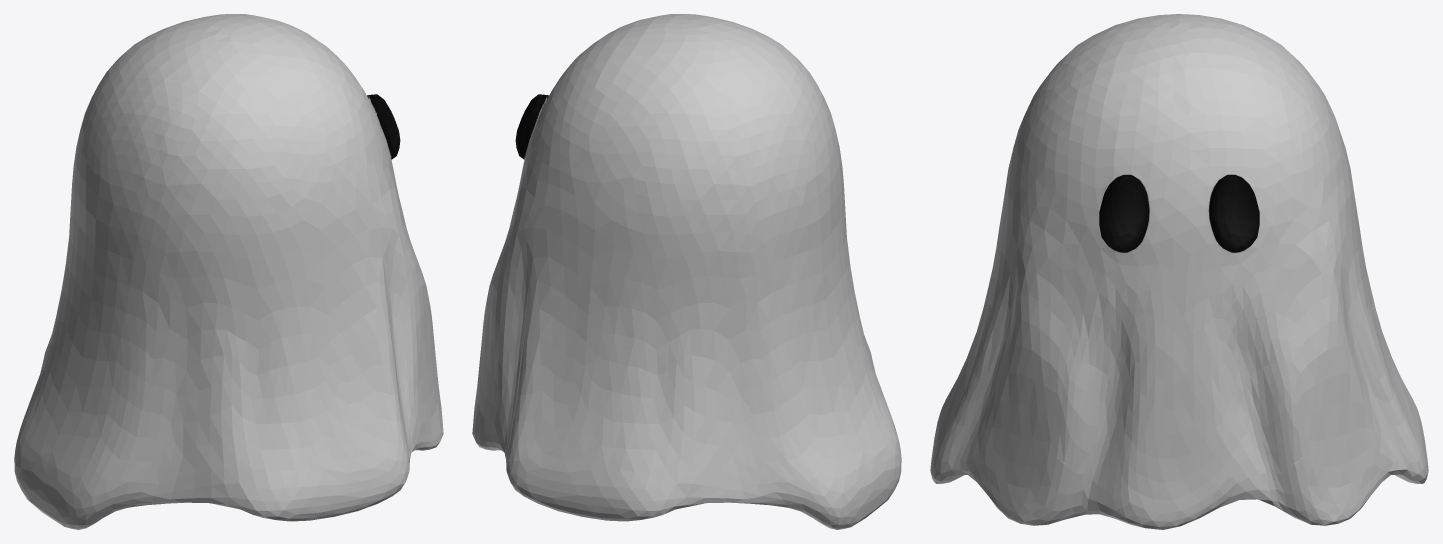
File: ghost_texture.obj
The picture shows the model from 3 angles, left to right: view 1: azimuth 30°, elevation 25°; view 2: azimuth 150°, elevation 25°; view 3: azimuth 270°, elevation 25°; orthographic projection. The views are drawn at different scales.
Parts seen in each view (by area): view 1: ghost_texture; view 2: ghost_texture; view 3: ghost_texture.
Boxes of the visible parts, bbox=[...] form: ghost_texture: bbox=[14, 14, 443, 529]; ghost_texture: bbox=[472, 14, 901, 529]; ghost_texture: bbox=[930, 14, 1428, 529].
Bounding box in the file's own units: 0.8729 × 1 × 0.9479.
Materials: 1 (1 with a texture image).
